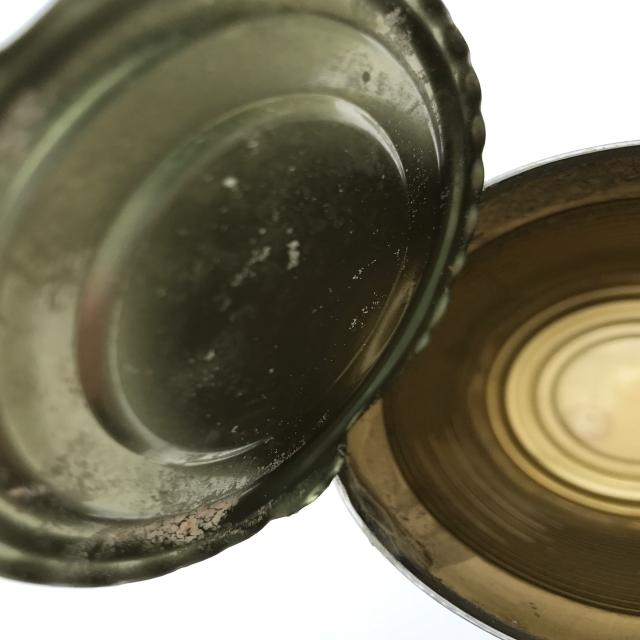metal: (0, 0, 488, 588), (335, 137, 640, 640)
